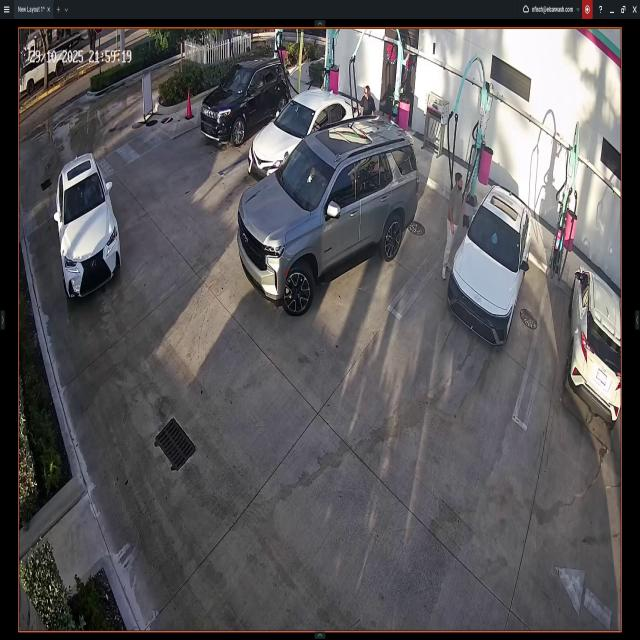Car: (239, 130, 418, 308), (454, 181, 534, 343), (55, 150, 118, 300), (248, 91, 364, 171), (570, 267, 622, 424), (198, 62, 288, 140)
